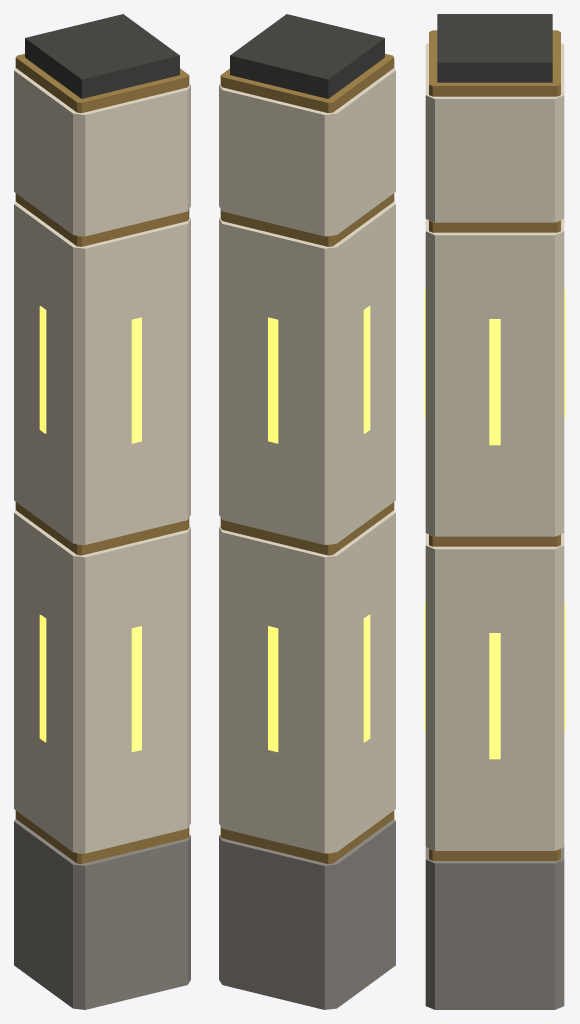
Rendered from b4_column.glb.
The picture shows the model from 3 angles, left to right: view 1: azimuth 30°, elevation 25°; view 2: azimuth 150°, elevation 25°; view 3: azimuth 270°, elevation 25°; orthographic projection.
Visible parts, largest first — view 1: b4_column; view 2: b4_column; view 3: b4_column.
Boxes of the visible parts, left/top/right/bottom form: b4_column: left=14, top=14, right=190, bottom=1009; b4_column: left=219, top=14, right=395, bottom=1009; b4_column: left=424, top=14, right=565, bottom=1009.
Size of the model in its own units: 1.22 by 9 by 1.22.
